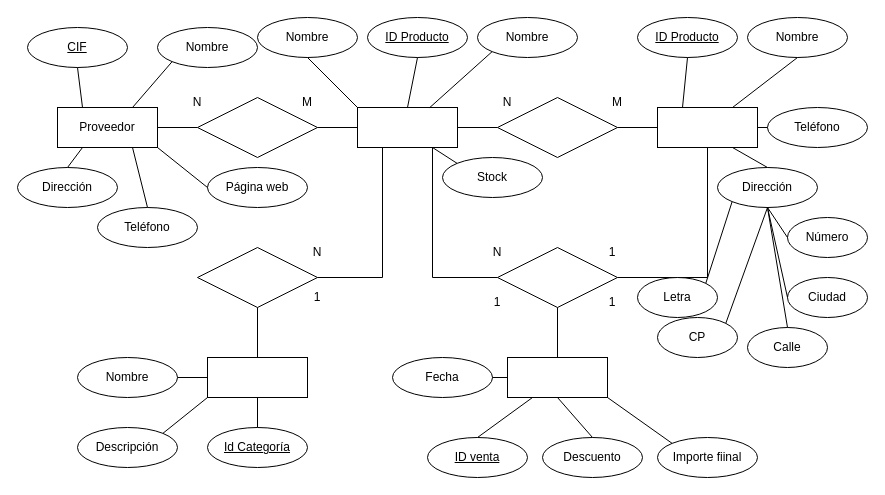
The diagram is 885 pixels wide and 495 high, and some of its shapes have lost their labels. The box of each missing label's shape, as (x1, y1, x2, y2) in pixels:
Aporta: (196, 96, 318, 158)
Categoría: (206, 356, 308, 398)
Cliente: (656, 106, 758, 148)
Producto: (356, 106, 458, 148)
Se registran: (496, 246, 618, 308)
Se vende: (496, 96, 618, 158)
Tiene: (196, 246, 318, 308)
Venta: (506, 356, 608, 398)
